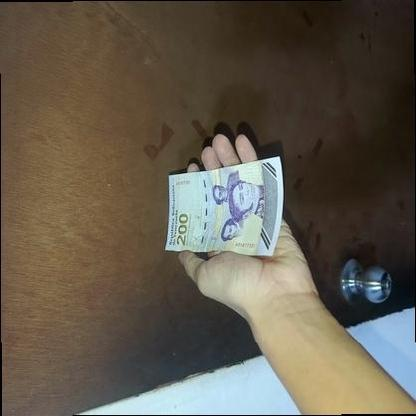two_hundred-front-vef: (164, 156, 284, 256)
